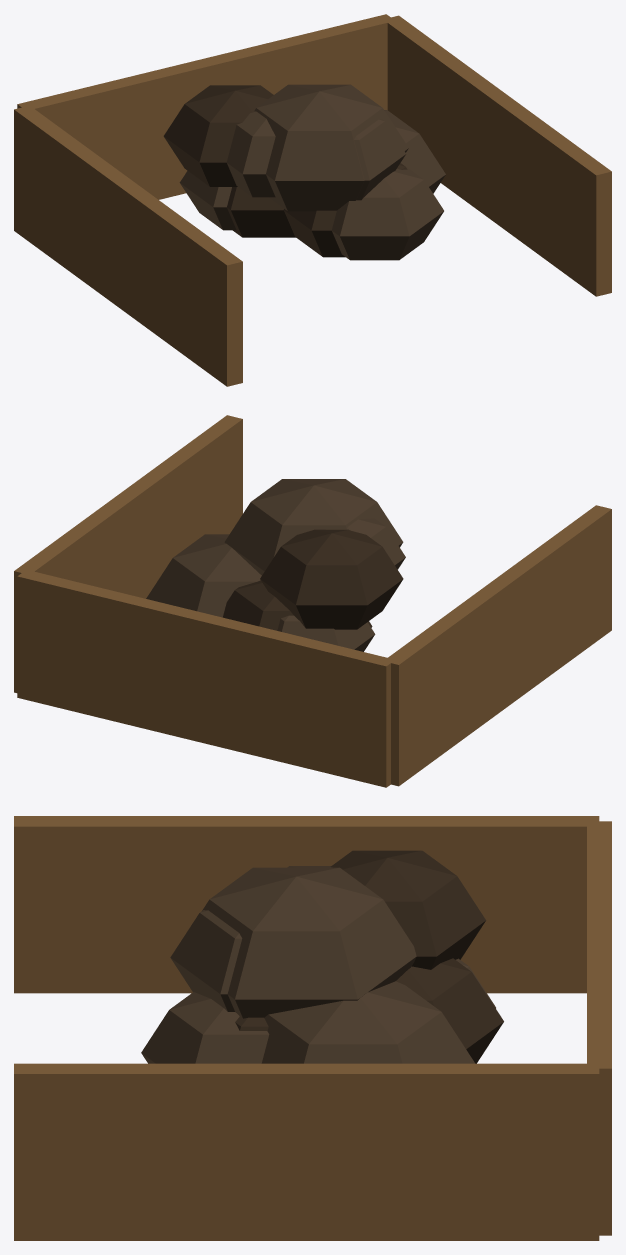
File: pile_fertilizer_2.glb
3 views of the same model, one above another, from view 1: azimuth 30°, elevation 25°; view 2: azimuth 150°, elevation 25°; view 3: azimuth 270°, elevation 25° (orthographic). The views are drawn at different scales.
Parts seen in each view (by area): view 1: pile_fertilizer_2; view 2: pile_fertilizer_2; view 3: pile_fertilizer_2.
Part boxes in pixels (<box>): pile_fertilizer_2: <box>14,14,611,386</box>; pile_fertilizer_2: <box>14,415,611,787</box>; pile_fertilizer_2: <box>14,816,611,1240</box>.
Size of the model in its own units: 1.46 by 0.6258 by 1.43.
